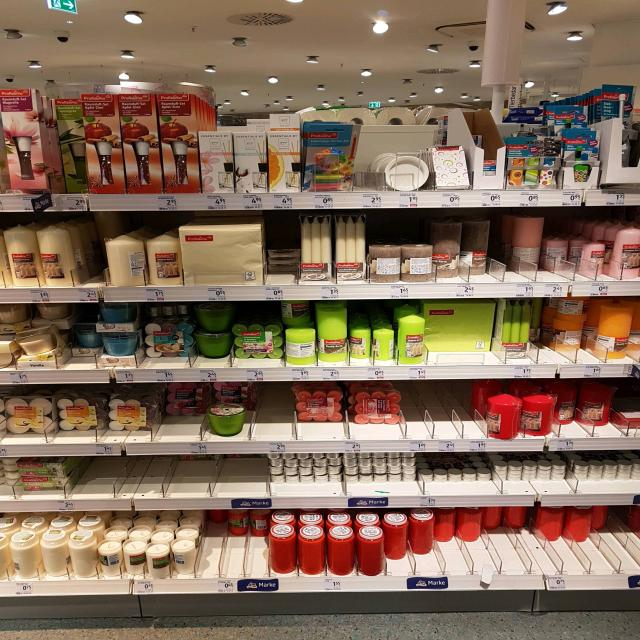void: (252, 381, 289, 454), (443, 385, 480, 455), (156, 455, 192, 520), (80, 227, 106, 303), (229, 456, 263, 509), (116, 459, 148, 514), (412, 391, 439, 452), (80, 457, 111, 510), (199, 455, 222, 508)
